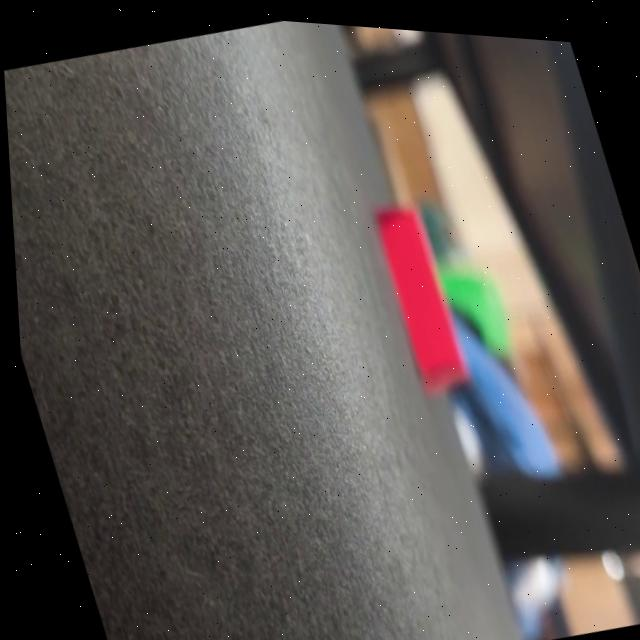red block: (367, 197, 475, 401)
